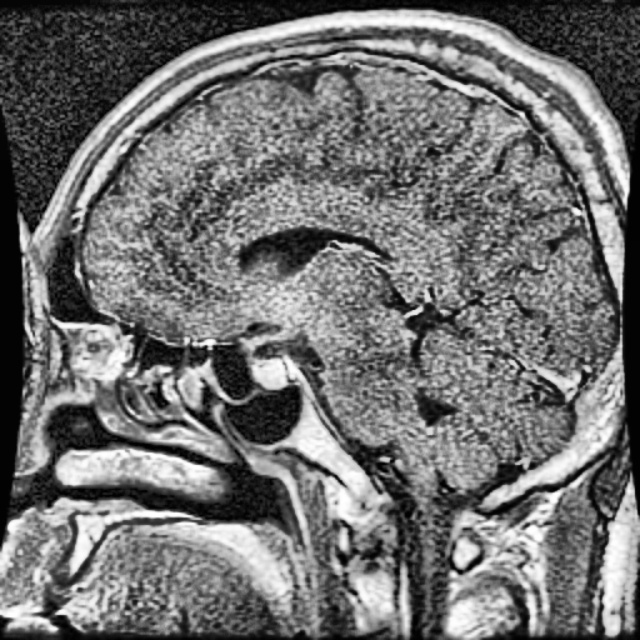Pituitary: (248, 355, 288, 390)
